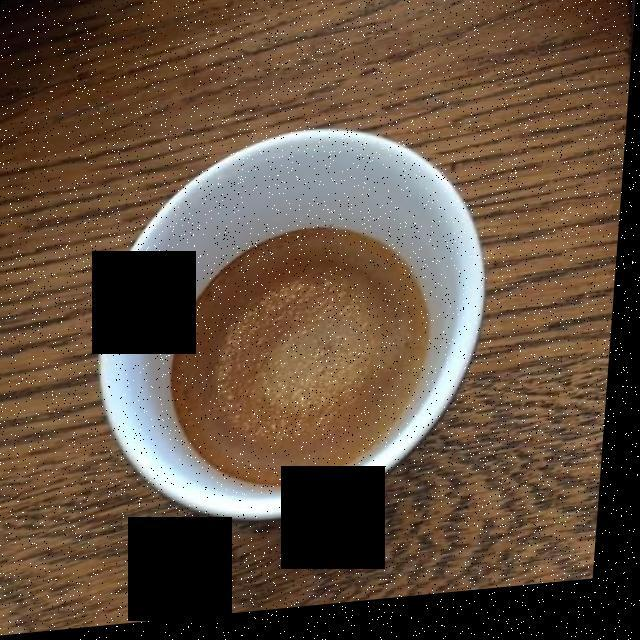espresso: (173, 237, 434, 489)
